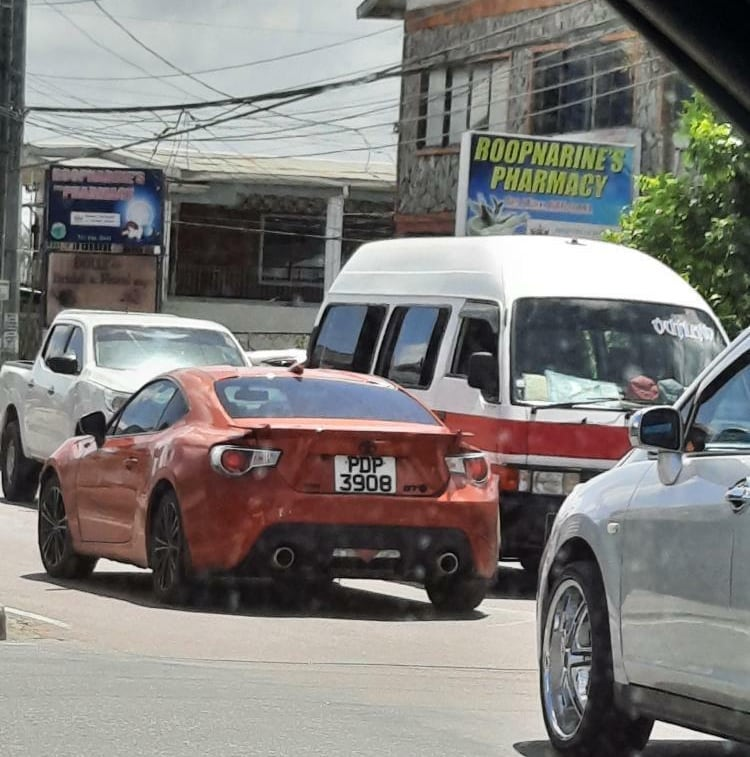License-Plate: (335, 454, 395, 490)
